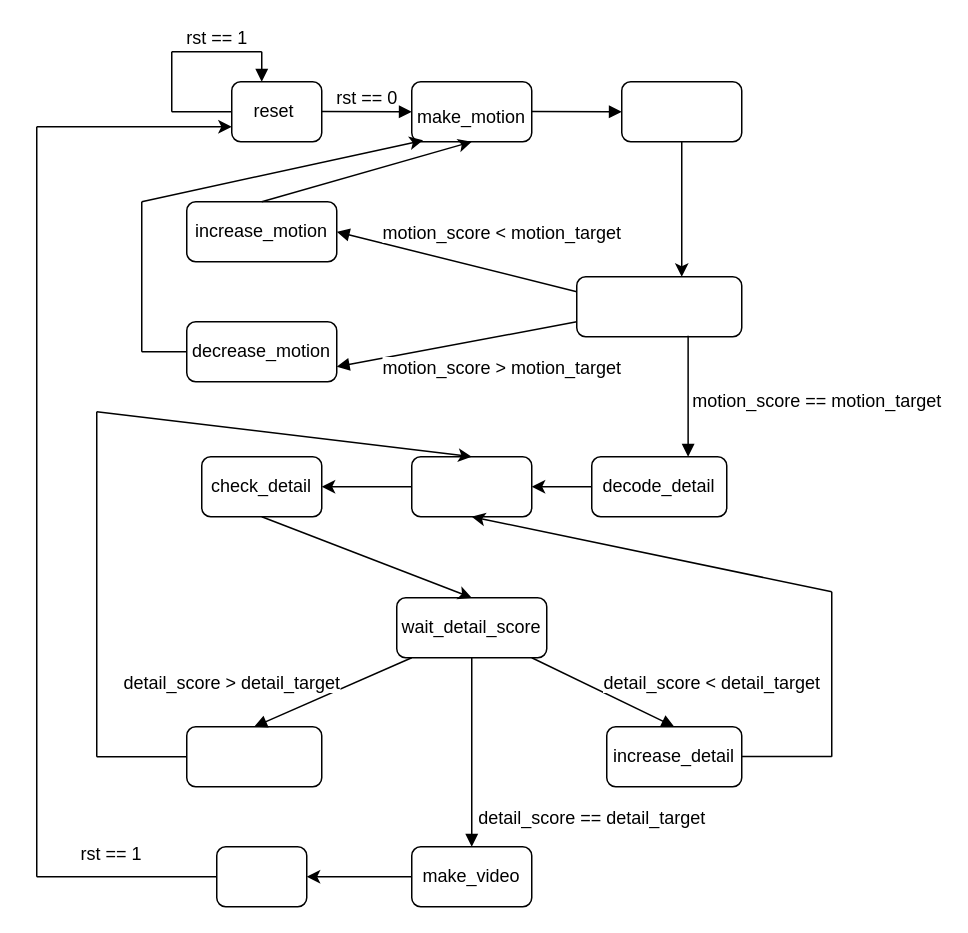
Some shapes in this 968 by 933 pixel diagram are drawn without their labels. Each missing label, with the centre of its shape:
"check_motion" goes at pixel 681 111.
"decrease_score" goes at pixel 253 756.
"done" goes at pixel 261 876.
"make_detail" goes at pixel 471 486.
"wait_motion_score" goes at pixel 658 306.
